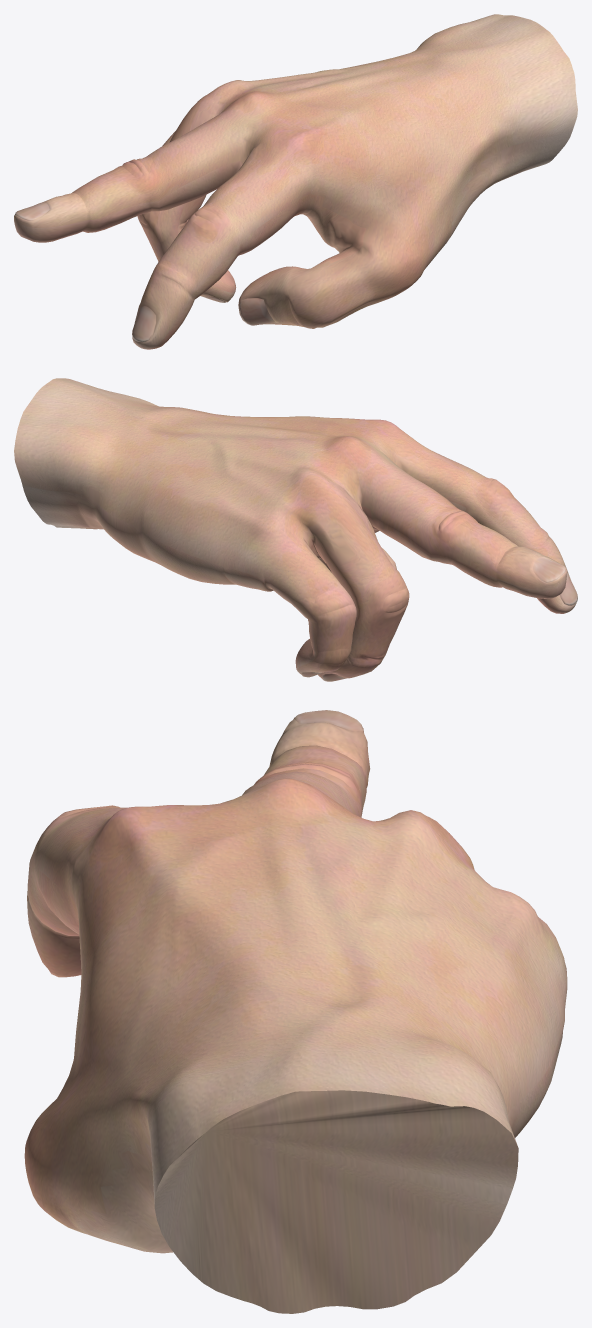
Rendered from hand_23.obj.
3 renders of one model, top to bottom at view 1: azimuth 30°, elevation 25°; view 2: azimuth 150°, elevation 25°; view 3: azimuth 270°, elevation 25°, orthographic. The views are drawn at different scales.
Parts seen in each view (by area): view 1: Figure_2; view 2: Figure_2; view 3: Figure_2.
Boxes of the visible parts, <box> form: Figure_2: <box>14,14,577,349</box>; Figure_2: <box>14,378,577,681</box>; Figure_2: <box>24,710,567,1313</box>.
Bounding box in the file's own units: 0.8925 × 0.3641 × 0.4023.
Materials: 2 (2 with a texture image).
